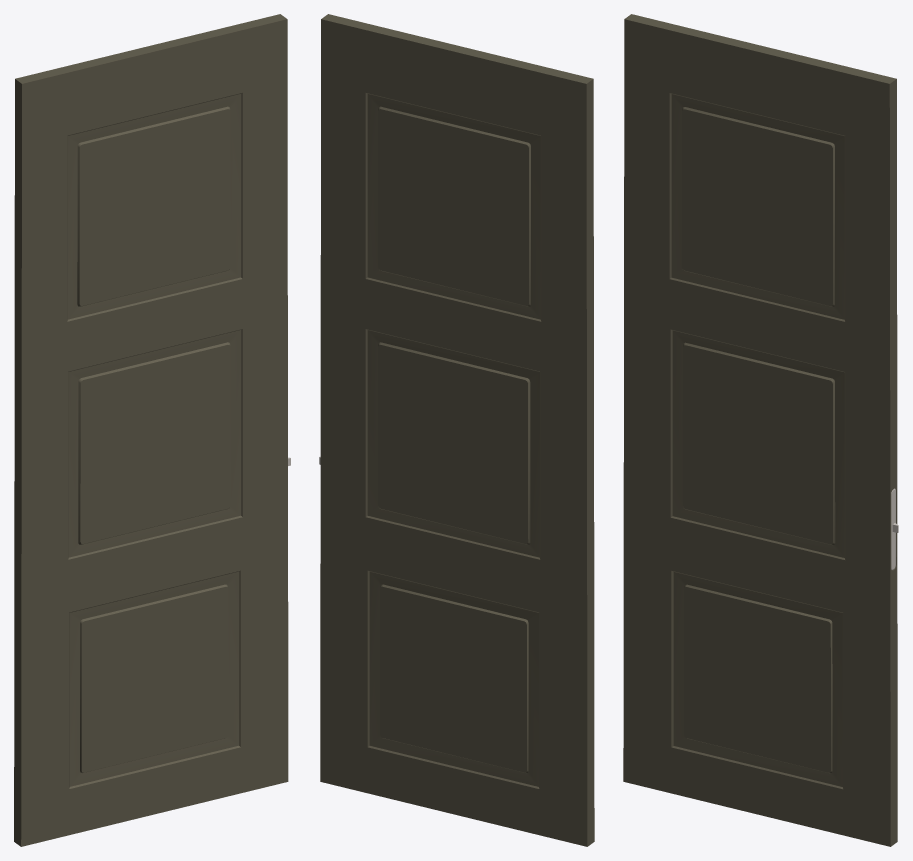
The model's file is 26_FRANKFURT_Door.glb.
The picture shows the model from 3 angles, left to right: view 1: azimuth 30°, elevation 25°; view 2: azimuth 150°, elevation 25°; view 3: azimuth 330°, elevation 25°; orthographic projection.
Visible parts, largest first — view 1: 26_FRANKFURT_Door; view 2: 26_FRANKFURT_Door; view 3: 26_FRANKFURT_Door.
Boxes of the visible parts, x1,y1,x2,y2 form: 26_FRANKFURT_Door: (14, 14, 290, 846); 26_FRANKFURT_Door: (319, 14, 594, 846); 26_FRANKFURT_Door: (623, 14, 898, 846).
Size of the model in its own units: 0.8202 by 2.2 by 0.037.
